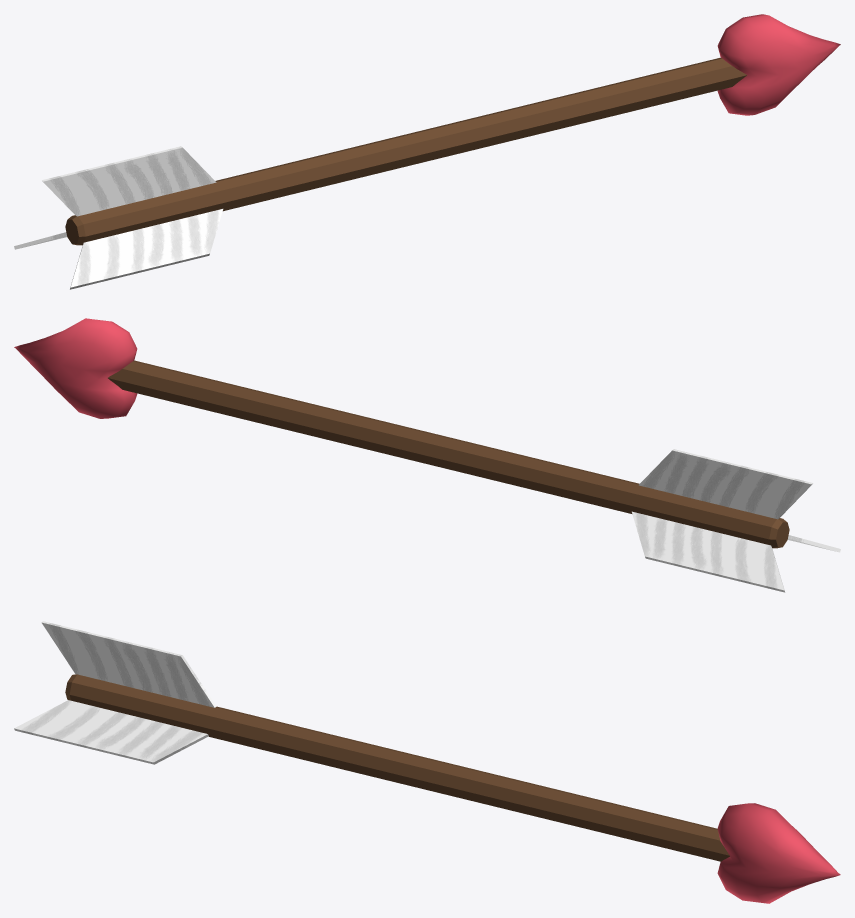
The model's file is arrow.fbx.
3 renders of one model, top to bottom at view 1: azimuth 30°, elevation 25°; view 2: azimuth 150°, elevation 25°; view 3: azimuth 330°, elevation 25°, orthographic.
Parts seen in each view (by area): view 1: polySurface2; view 2: polySurface2; view 3: polySurface2.
Boxes of the visible parts, left/top/right/bottom form: polySurface2: left=14, top=14, right=840, bottom=289; polySurface2: left=14, top=318, right=840, bottom=592; polySurface2: left=14, top=621, right=840, bottom=903.
Bounding box in the file's own units: 6.34 × 0.8094 × 0.7773.
1 material, 1 textured.
